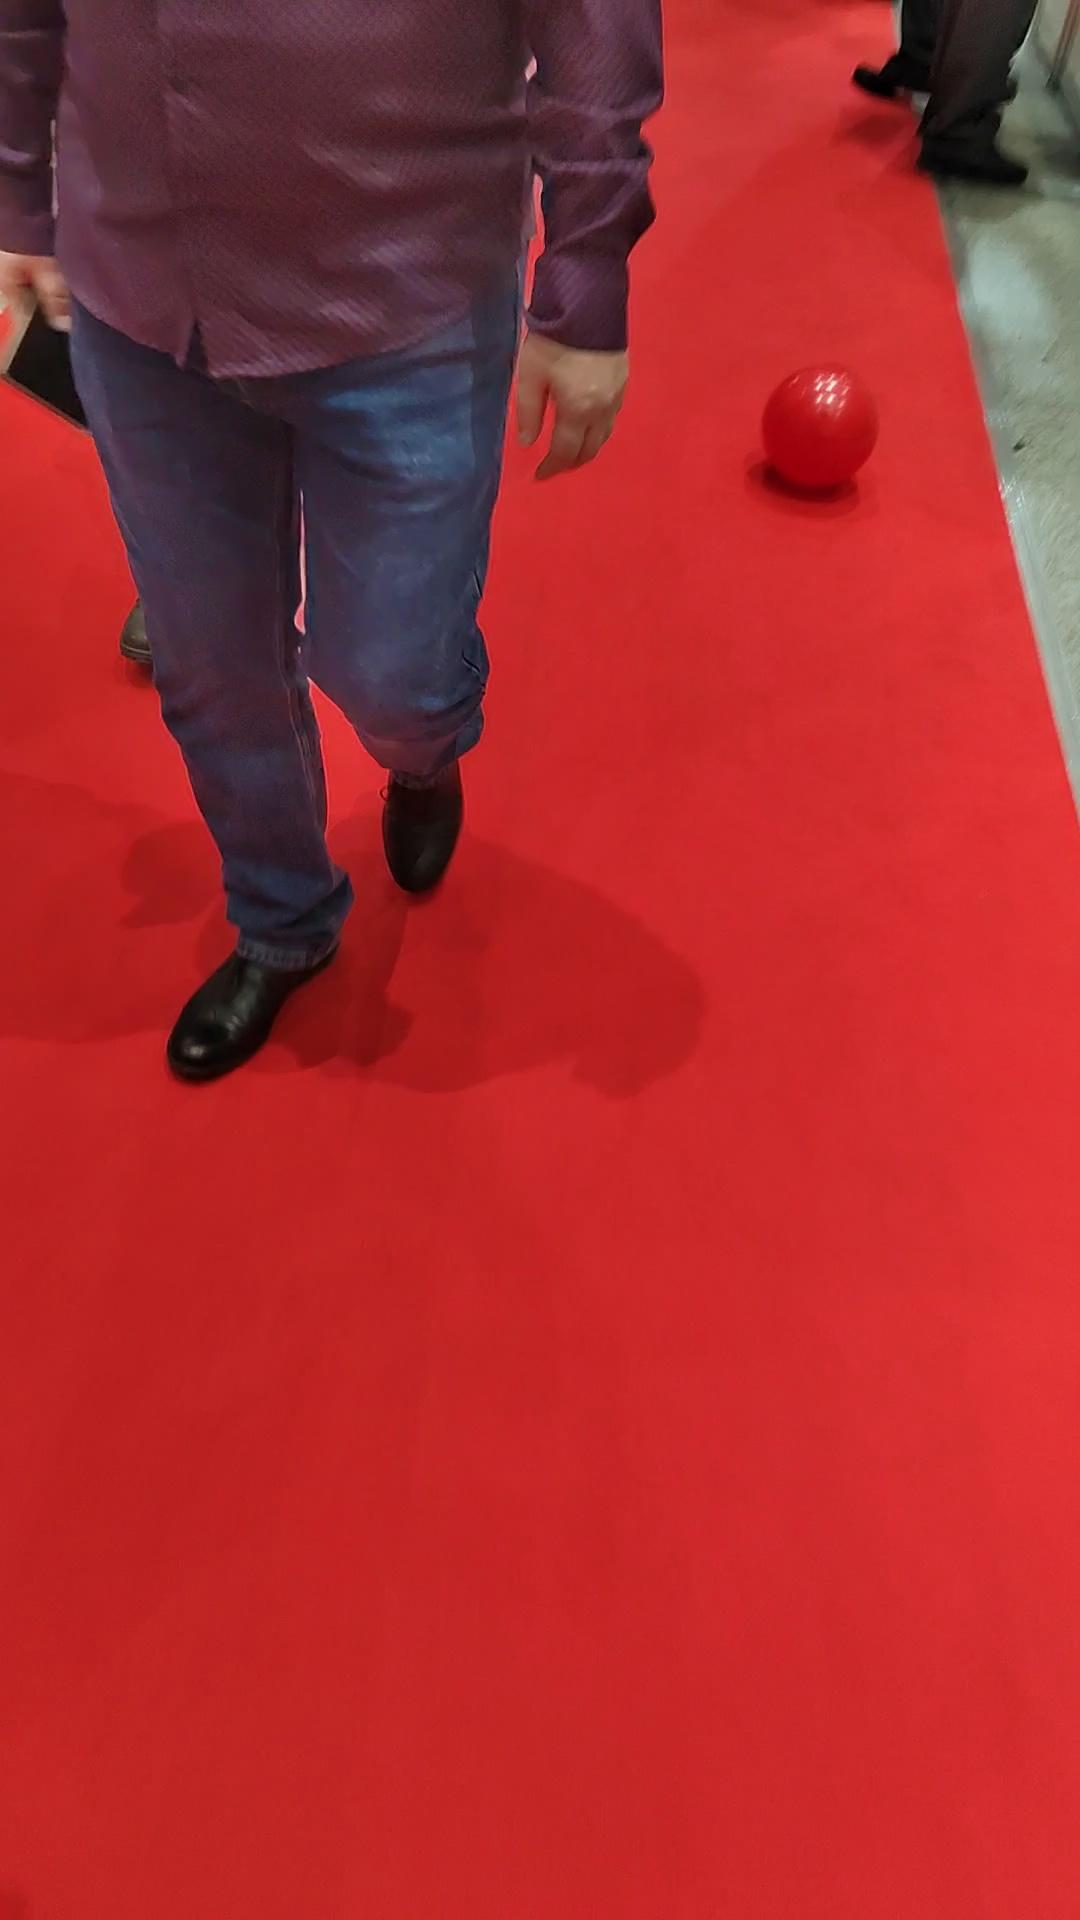red: (760, 365, 880, 491)
